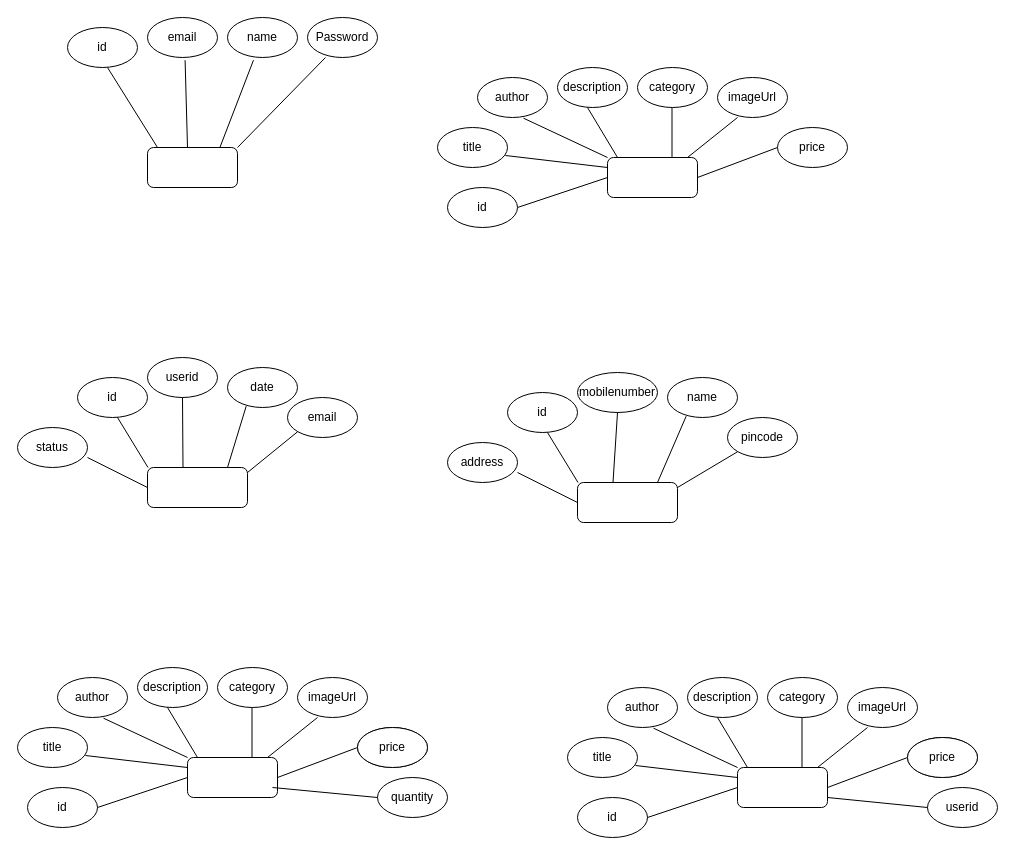
This 1015x855 diagram has some shape labels left out. Here are the shapes that lost their labels. From the top down, the box of each, then its label:
(146, 146, 238, 188): Users
(606, 156, 698, 198): Books
(146, 466, 248, 508): Order
(576, 482, 678, 522): AddressInfo
(186, 756, 278, 798): cartItems
(736, 766, 828, 808): wishlist
